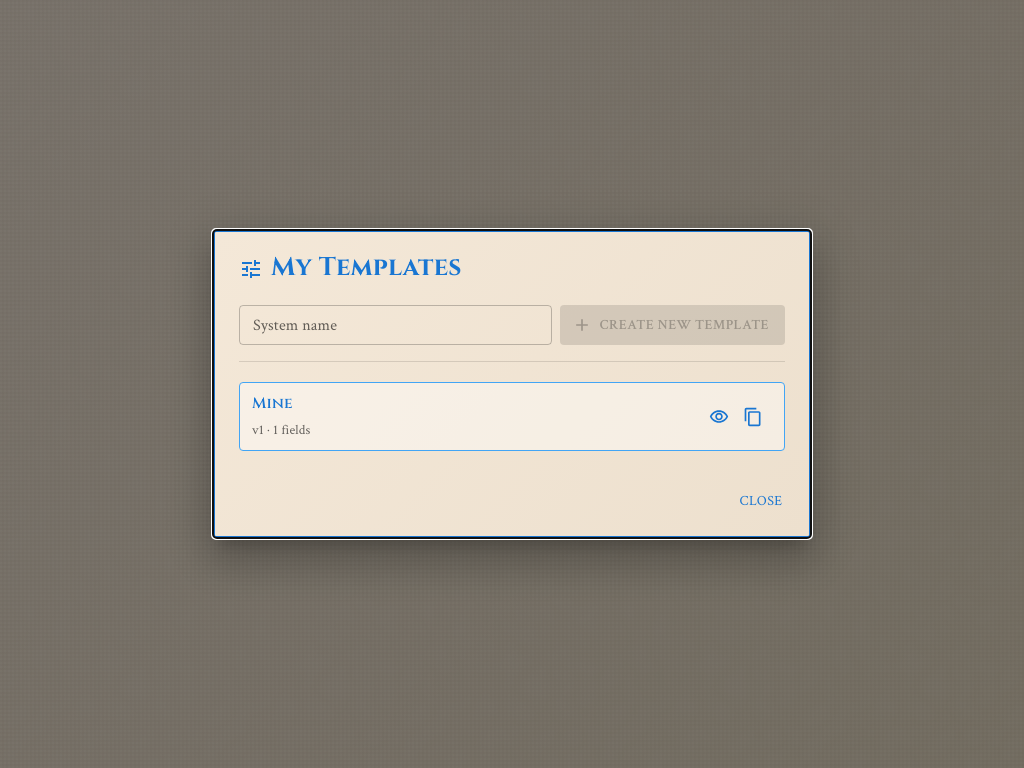
Test case: closing the dialog drops the preview, so reopening does not show a stale sheet
Step 1. Click the button with test id "VisibilityOutlinedIcon" → (719, 417), box [704,402,734,432]
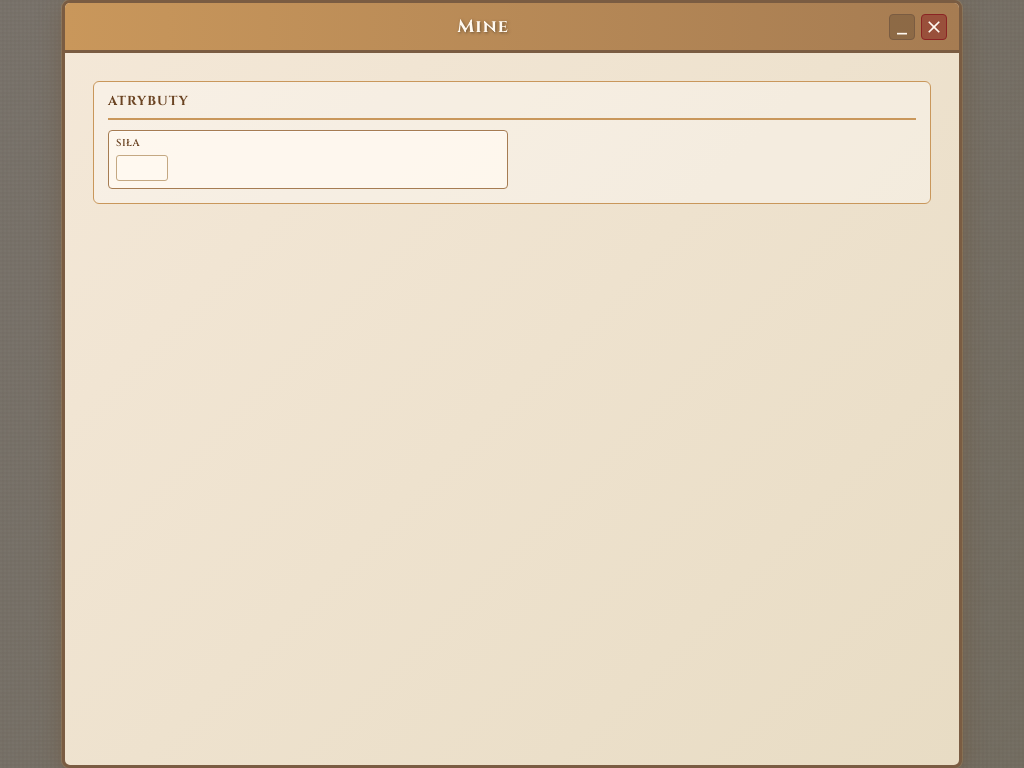
Expected: the element with class "character-sheet-popup" is shown
